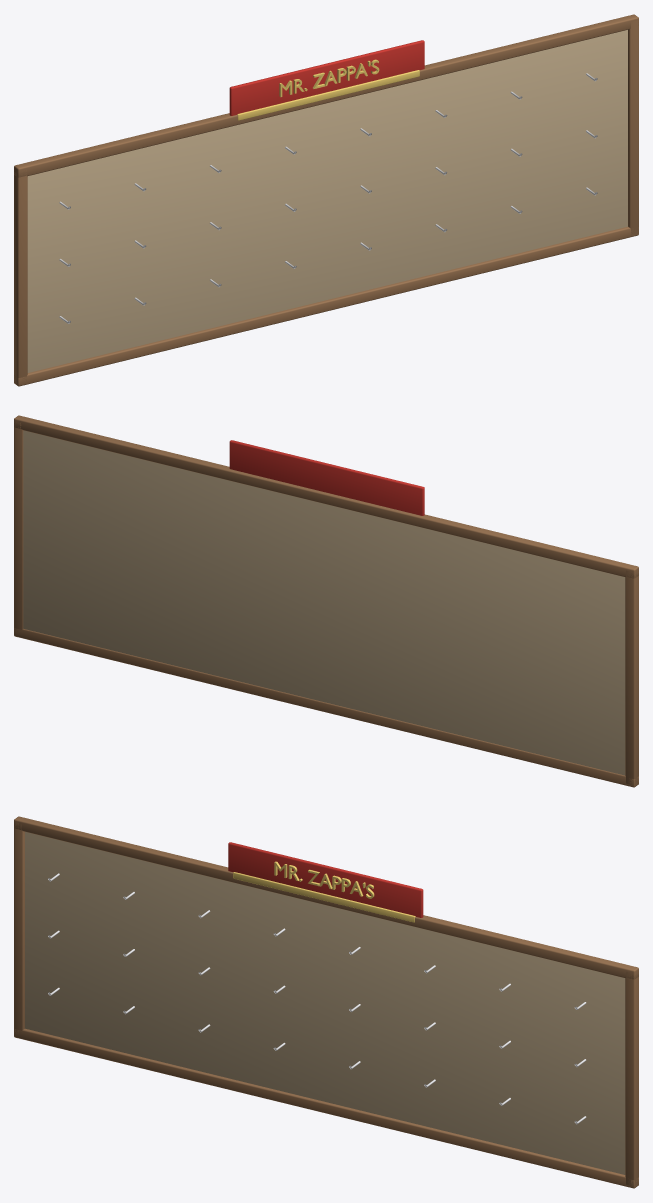
The model's file is pegboard.glb.
3 views of the same model, one above another, from view 1: azimuth 30°, elevation 25°; view 2: azimuth 150°, elevation 25°; view 3: azimuth 330°, elevation 25° (orthographic).
Parts seen in each view (by area): view 1: board, frame_h-1, frame_h1, sign, frame_v-1, frame_v1, sign_band, sign_text; view 2: board, frame_h1, frame_h-1, sign, frame_v-1, frame_v1; view 3: board, frame_h-1, frame_h1, sign, frame_v1, frame_v-1, sign_band, sign_text.
Boxes of the visible parts, x1,y1,x2,y2 form: board: (27,30,627,372); frame_h-1: (14,226,638,386); frame_h1: (14,14,638,177); sign: (229,40,424,115); frame_v-1: (14,168,27,383); frame_v1: (628,20,638,234); sign_band: (237,70,419,120); sign_text: (279,59,379,97); board: (23,430,625,775); frame_h1: (14,415,638,578); frame_h-1: (14,628,638,787); sign: (229,440,424,515); frame_v-1: (625,569,638,784); frame_v1: (14,421,23,634); board: (25,832,625,1174); frame_h-1: (14,1028,638,1188); frame_h1: (14,816,638,979); sign: (228,842,423,917); frame_v1: (625,971,638,1185); frame_v-1: (14,822,24,1035); sign_band: (233,872,415,922); sign_text: (274,861,374,898).
Bounding box in the file's own units: 5.12 × 1.94 × 0.1904.
